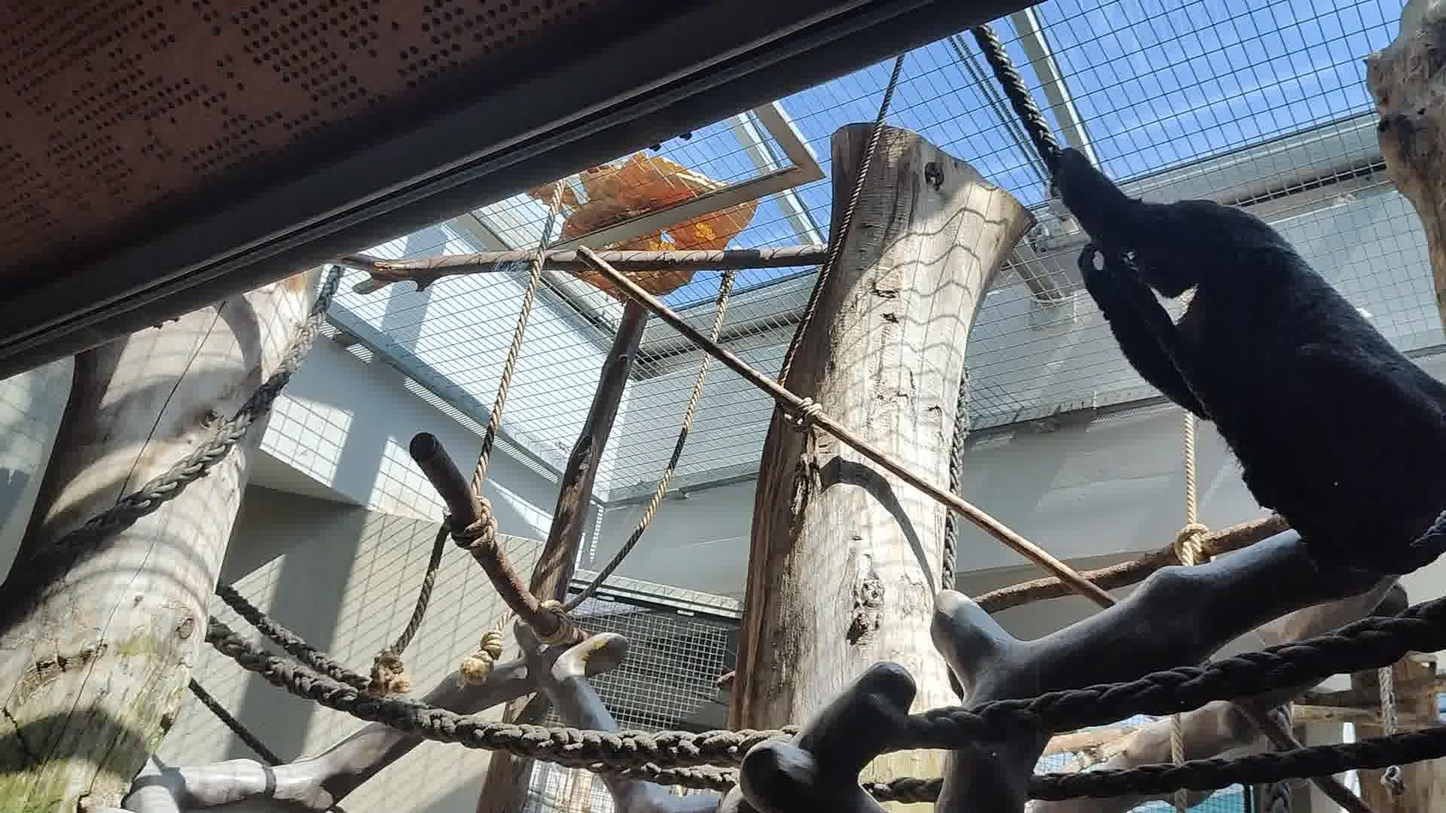boar: (1056, 147, 1446, 549)
